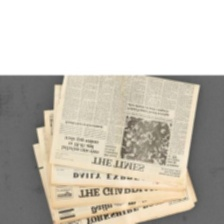news_paper: (44, 74, 203, 187), (29, 140, 208, 224), (32, 121, 189, 210)
